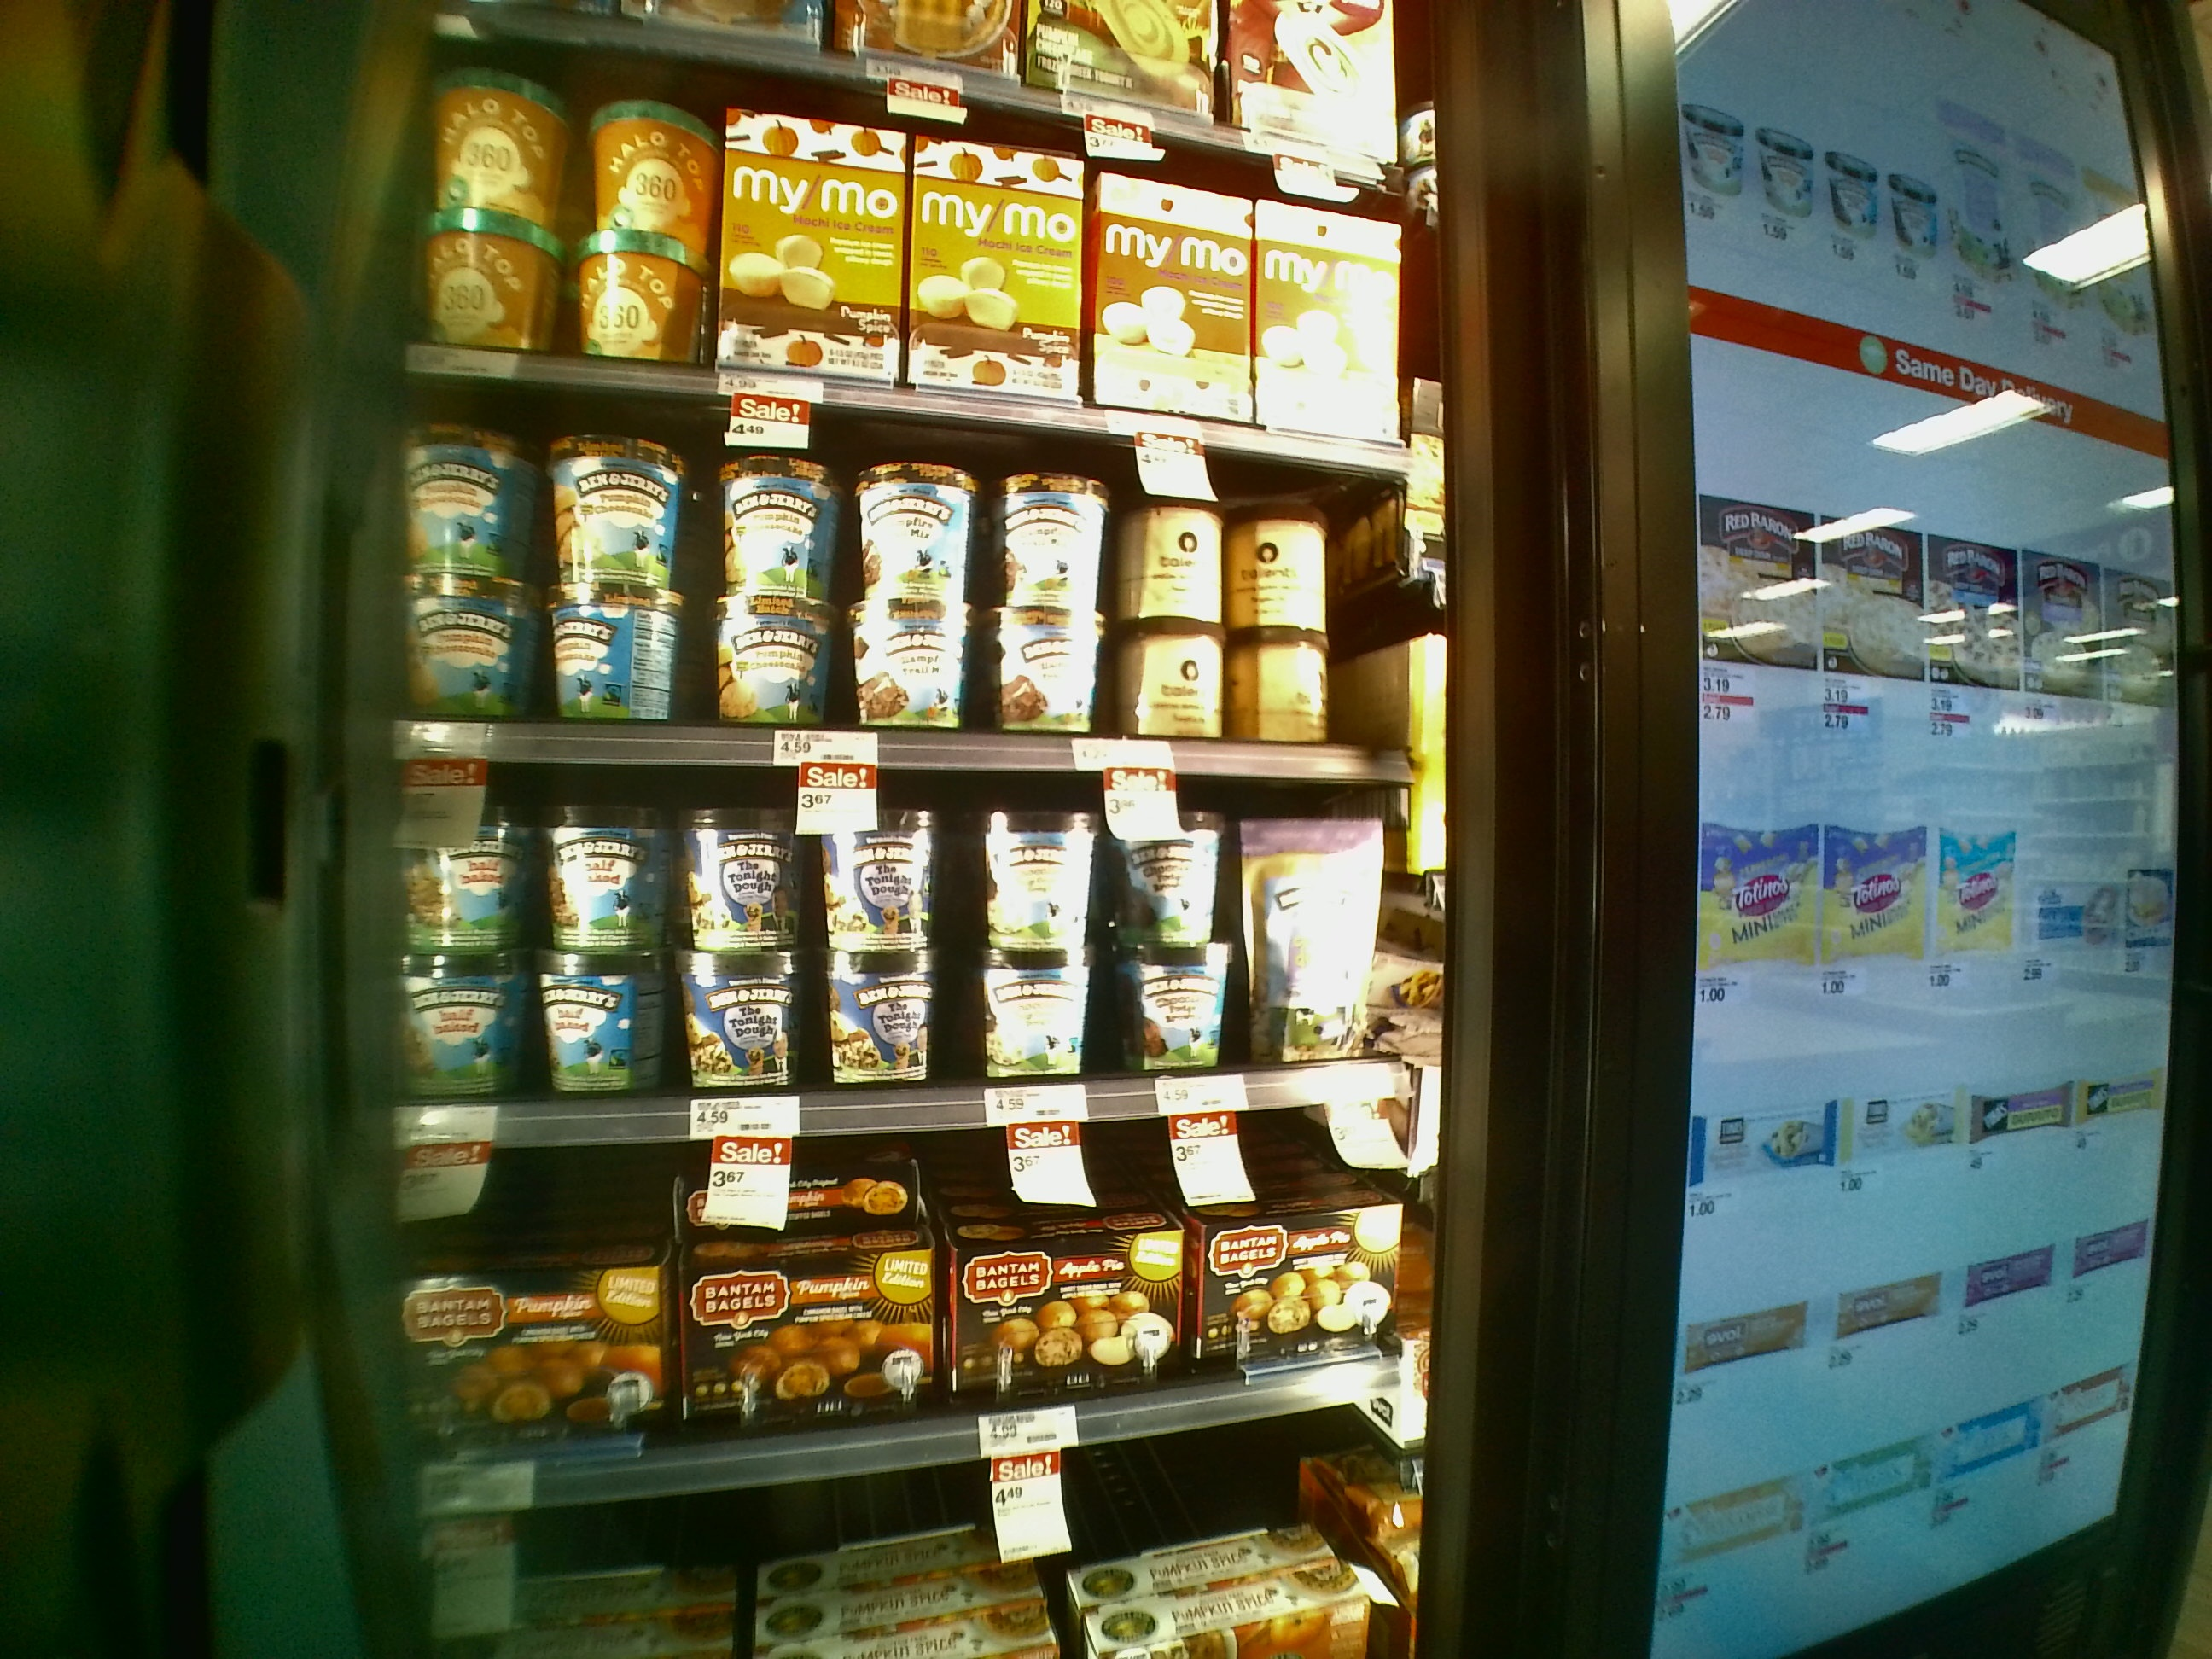shelf: (380, 362, 1432, 779), (381, 1105, 1413, 1497), (374, 737, 1416, 1122)
